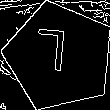L_S: (41, 30, 77, 83)
